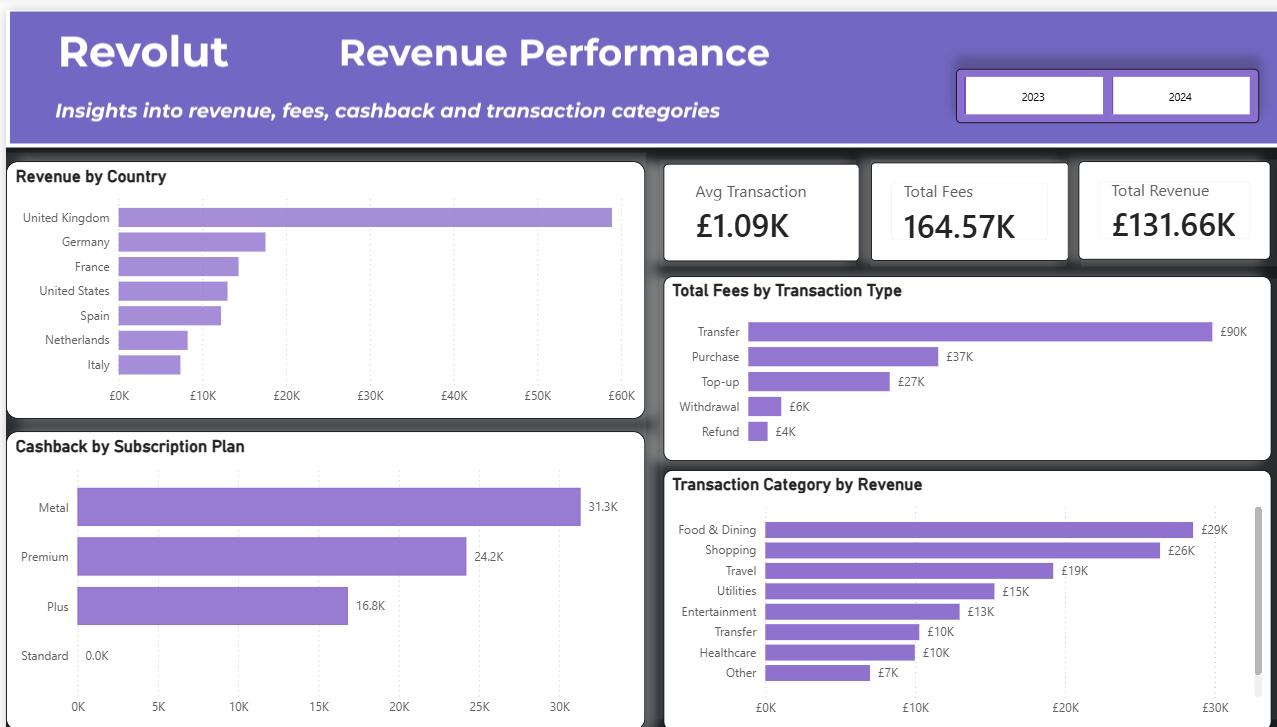

Layout of this report page (visuals, bound fields, positions):
{"tool":"powerbi","page":{"name":"Revenue","canvas":[1280,720],"ordinal":1},"visuals":[{"type":"cardVisual","fields":{"Data":["revolut_cleaned.Avg Transaction"]},"box":[657.3,153.7,196.2,97.4],"z":0},{"type":"cardVisual","fields":{"Data":["revolut_cleaned.Total Fees"]},"box":[864.5,152.3,197.6,98.8],"z":1000},{"type":"cardVisual","fields":{"Data":["revolut_cleaned.Total Revenue"]},"box":[1073.1,150.9,192.1,98.8],"z":2000},{"type":"clusteredBarChart","title":"Revenue by Country","fields":{"Category":["revolut_cleaned.country"],"Y":["revolut_cleaned.Total Revenue"]},"box":[0,150.9,639.5,258],"z":3000},{"type":"barChart","title":"Cashback by Subscription Plan","fields":{"Y":["Sum(revolut_cleaned.cashback_amount)"],"Category":["revolut_cleaned.subscription_plan"]},"box":[0,420.9,639.5,299.1],"z":4000},{"type":"clusteredBarChart","title":"Total Fees by Transaction Type","fields":{"Category":["revolut_cleaned.transaction_type"],"Y":["Sum(revolut_cleaned.transaction_fee)"]},"box":[657.5,266.6,608,184.6],"z":5000},{"type":"clusteredBarChart","title":"Transaction Category by Revenue","fields":{"Category":["revolut_cleaned.transaction_category"],"Y":["revolut_cleaned.Total Revenue"]},"box":[657.5,459.7,608,260.6],"z":6000},{"type":"advancedSlicerVisual","fields":{"Values":["revolut_cleaned.year"]},"box":[949.5,59.1,302.8,54.3],"z":7000}]}

Visuals, with their boxes in screenshot pixels (x1, y1, x2, y2), scaled from the page's 1280x720 canvas onto the 1277x727 screenshot:
cardVisual - revolut_cleaned.Avg Transaction: [x1=656, y1=155, x2=851, y2=254]
cardVisual - revolut_cleaned.Total Fees: [x1=862, y1=154, x2=1060, y2=254]
cardVisual - revolut_cleaned.Total Revenue: [x1=1071, y1=152, x2=1262, y2=252]
"Revenue by Country" clusteredBarChart: [x1=0, y1=152, x2=638, y2=413]
"Cashback by Subscription Plan" barChart: [x1=0, y1=425, x2=638, y2=726]
"Total Fees by Transaction Type" clusteredBarChart: [x1=656, y1=269, x2=1263, y2=456]
"Transaction Category by Revenue" clusteredBarChart: [x1=656, y1=464, x2=1263, y2=726]
advancedSlicerVisual - revolut_cleaned.year: [x1=947, y1=60, x2=1249, y2=115]
